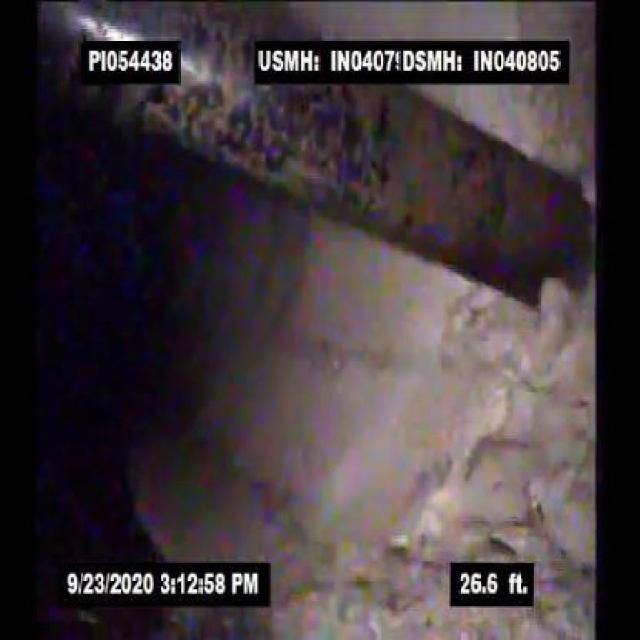Utility intrusion: (248, 93, 590, 330)
